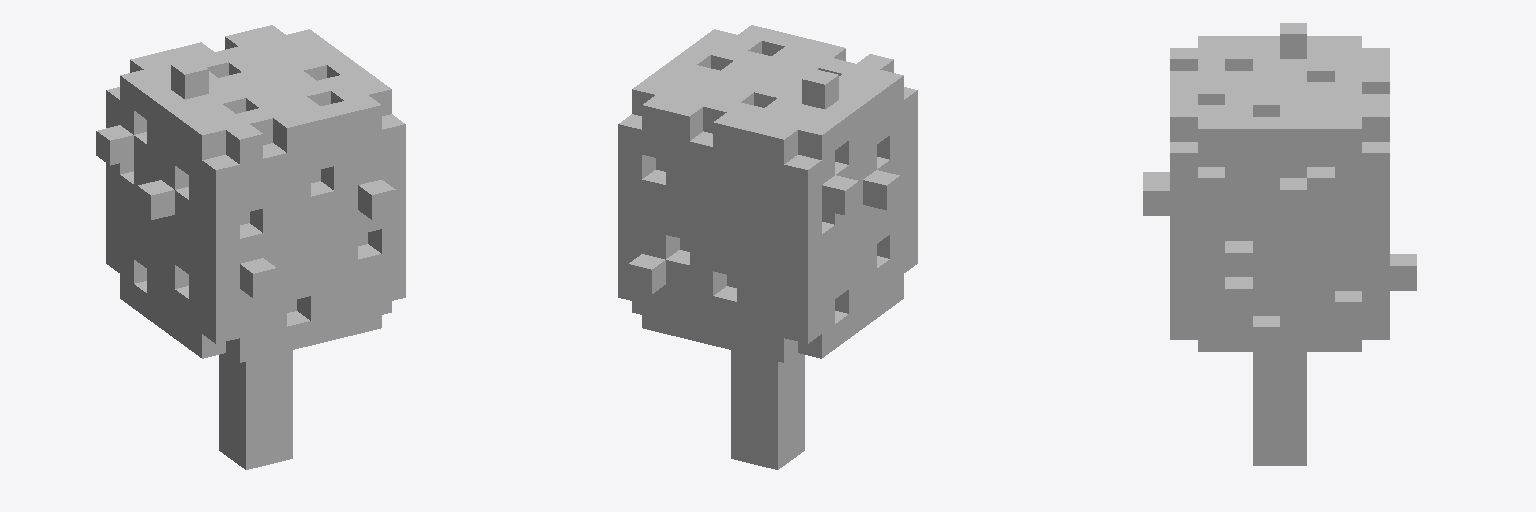
The model's file is obj_tree3.obj.
3 renders of one model, left to right at view 1: azimuth 30°, elevation 25°; view 2: azimuth 150°, elevation 25°; view 3: azimuth 270°, elevation 25°, orthographic.
Visible parts, largest first — view 1: object 1; view 2: object 1; view 3: object 1.
Boxes of the visible parts, box(x1,y1,x2,y2) form: object 1: box(96, 25, 405, 469); object 1: box(618, 25, 917, 469); object 1: box(1143, 23, 1416, 465).
Size of the model in its own units: 1 by 1.6 by 1.